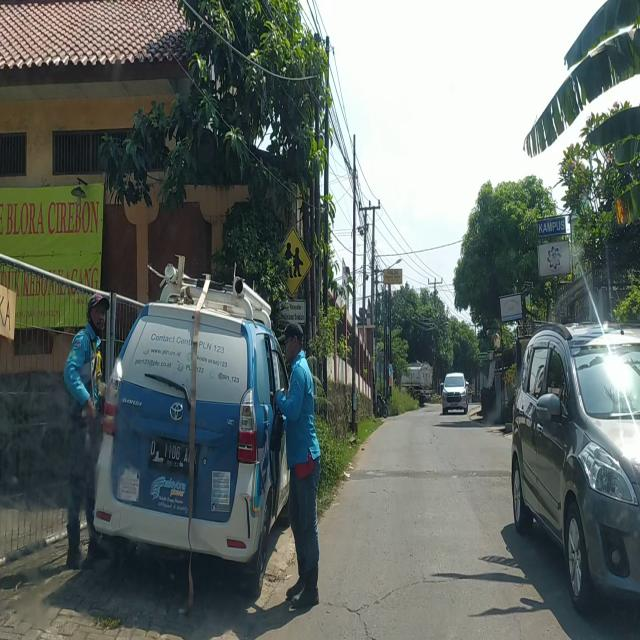Sewer Cover: (321, 575, 468, 640)
